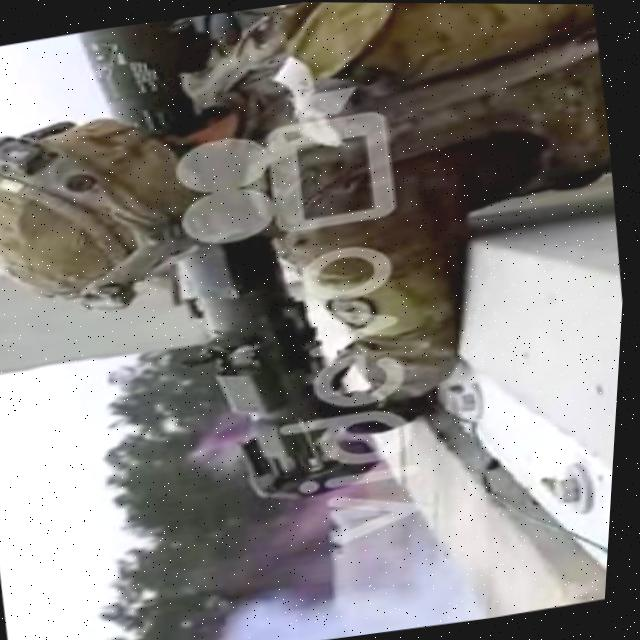rocket: (62, 1, 414, 527)
